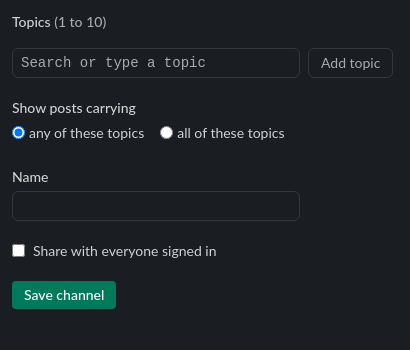
Test: ChannelBuilder › should refuse to save and say why when no topic is chosen
The width and height of the screenshot is (410, 350).
Type "Empty" into the field labelled "Name" at [156, 206], box [12,190,300,220]
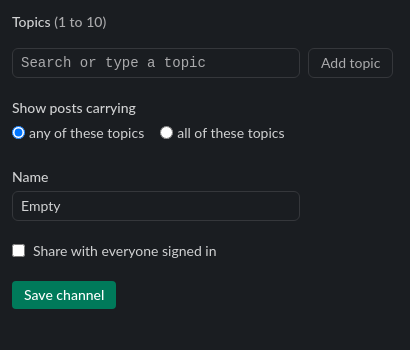
Click the button "Save channel" at [64, 294], box [12,280,116,308]
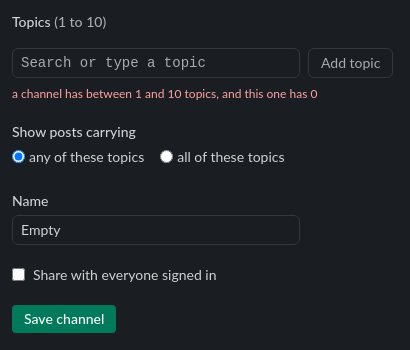
Expected: the message shows "between 1 and 10 topics", [12,86,317,101]
